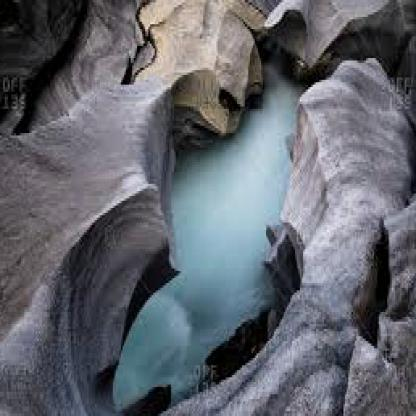Metamorphic_Marble: (292, 56, 414, 334), (124, 0, 265, 133)
